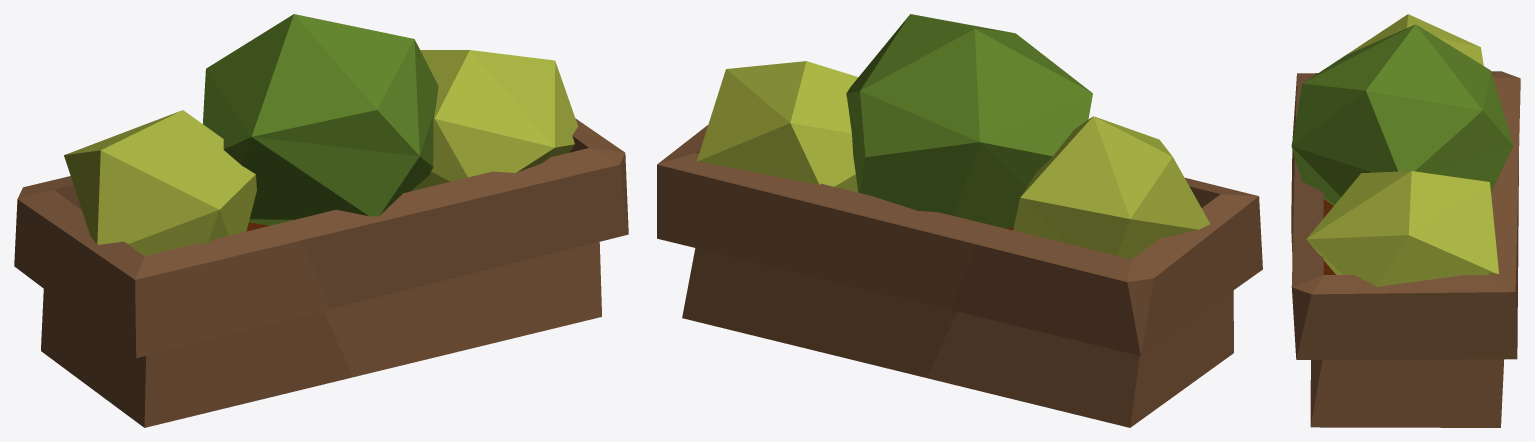
The model's file is Shrub 5 Fractured.fbx.
3 views of the same model, side by side, from view 1: azimuth 30°, elevation 25°; view 2: azimuth 150°, elevation 25°; view 3: azimuth 270°, elevation 25° (orthographic). The views are drawn at different scales.
Visible parts, largest first — view 1: Shrub_05_Breaking.001, Shrub_05_Breaking; view 2: Shrub_05_Breaking.001, Shrub_05_Breaking; view 3: Shrub_05_Breaking.001, Shrub_05_Breaking.
Boxes of the visible parts, x1,y1,x2,y2 form: Shrub_05_Breaking.001: (203,14,628,376); Shrub_05_Breaking: (14,110,352,427); Shrub_05_Breaking.001: (657,14,1092,377); Shrub_05_Breaking: (927,116,1262,427); Shrub_05_Breaking.001: (1291,24,1518,427); Shrub_05_Breaking: (1291,14,1520,219).
Size of the model in its own units: 106 by 64.79 by 46.14.
